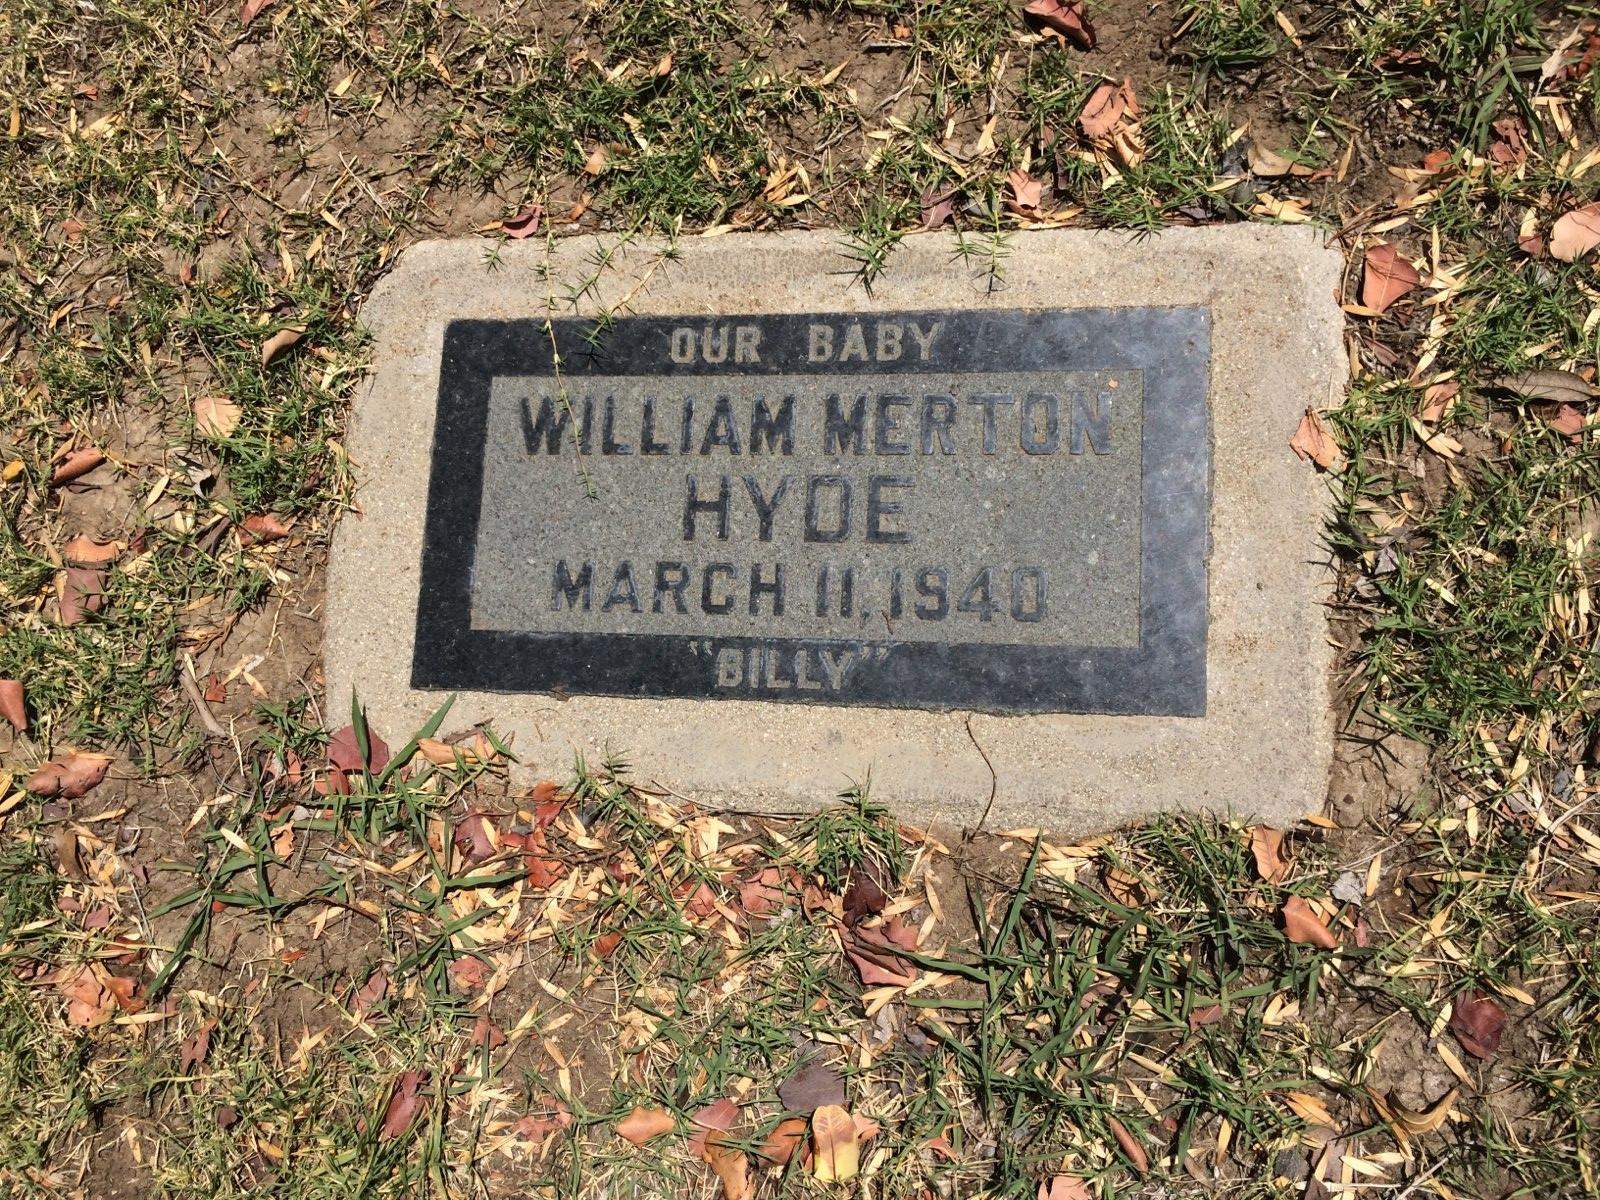flat: (323, 224, 1342, 831)
